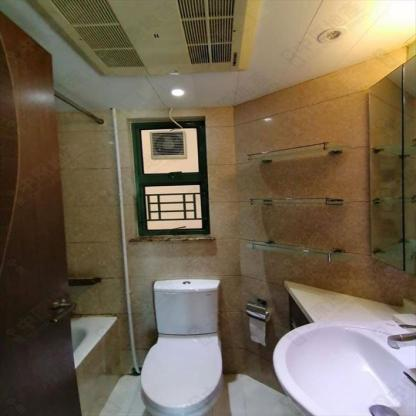Bathtub: (70, 316, 123, 412)
Exhaust Fan: (150, 132, 186, 156)
Faucet: (387, 318, 415, 378)
Toilet: (140, 278, 221, 414)
Toilet Sink: (272, 320, 415, 415)
